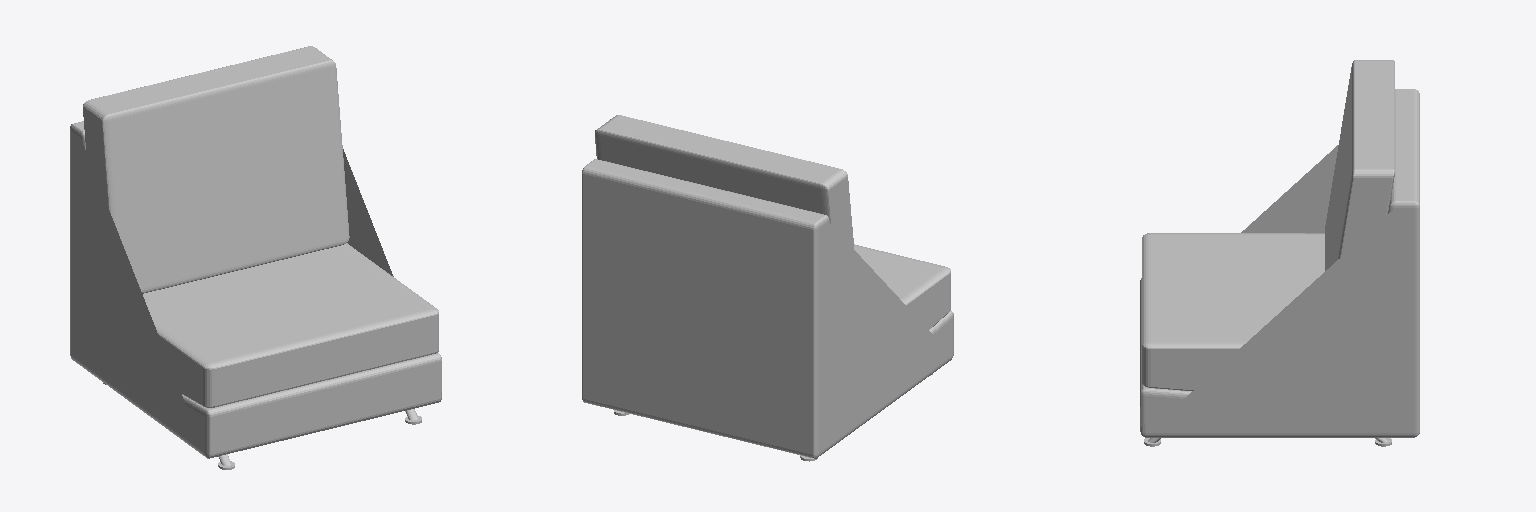
The model's file is Chair.obj.
3 renders of one model, left to right at view 1: azimuth 30°, elevation 25°; view 2: azimuth 150°, elevation 25°; view 3: azimuth 270°, elevation 25°, orthographic.
Visible parts, largest first — view 1: Plane.002, Plane.001, Plane; view 2: Plane, Plane.002, Plane.001; view 3: Plane, Plane.001, Plane.002.
Part boxes in pixels (bbox=[...]): Plane.002: bbox=[83, 46, 349, 293]; Plane.001: bbox=[103, 243, 438, 407]; Plane: bbox=[70, 121, 441, 458]; Plane: bbox=[582, 159, 953, 458]; Plane.002: bbox=[595, 115, 853, 248]; Plane.001: bbox=[847, 244, 950, 398]; Plane: bbox=[1140, 89, 1419, 437]; Plane.001: bbox=[1142, 233, 1355, 402]; Plane.002: bbox=[1325, 60, 1394, 270].
Size of the model in its own units: 2.37 by 2.72 by 2.44.